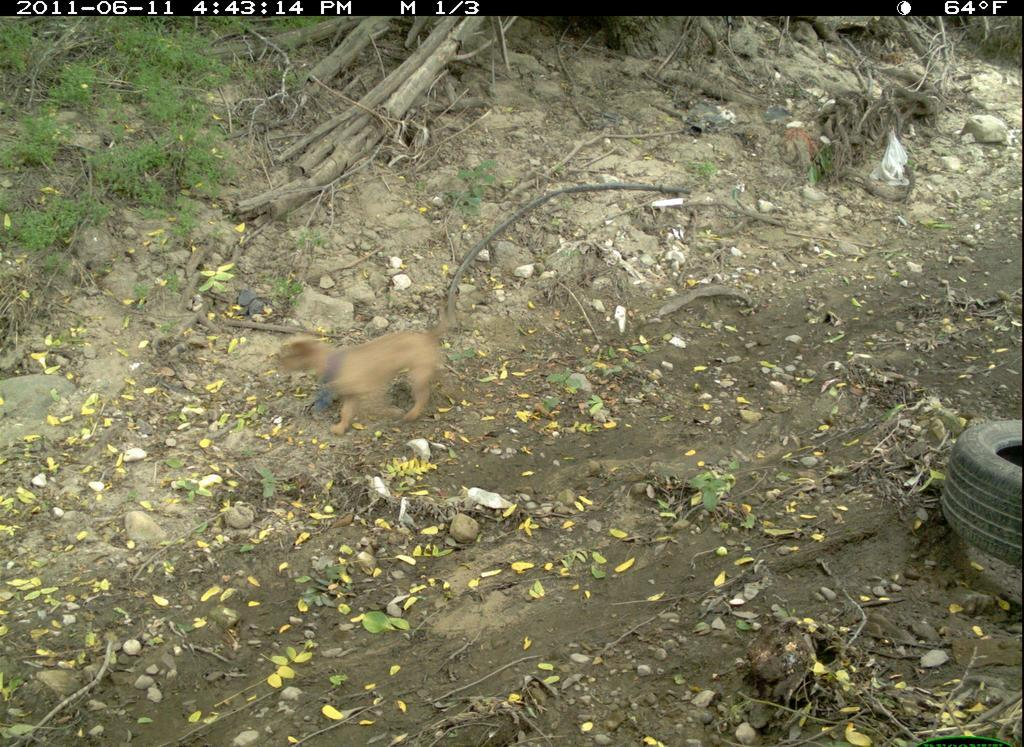dog: (250, 312, 456, 431)
